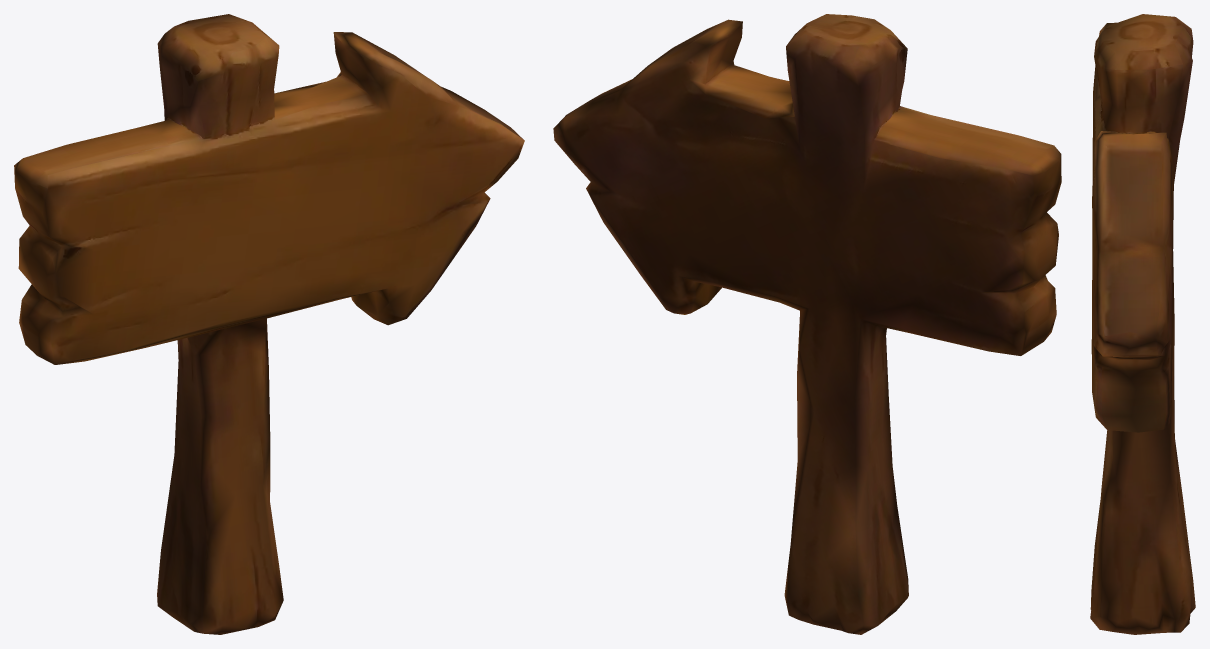
The model's file is signpost.glb.
3 views of the same model, side by side, from view 1: azimuth 30°, elevation 25°; view 2: azimuth 150°, elevation 25°; view 3: azimuth 270°, elevation 25° (orthographic).
Visible parts, largest first — view 1: geometry_0; view 2: geometry_0; view 3: geometry_0.
Boxes of the visible parts, x1,y1,x2,y2 form: geometry_0: (14,14,524,634); geometry_0: (553,14,1061,634); geometry_0: (1090,14,1195,634).
Bounding box in the file's own units: 1.58 × 1.8 × 0.2939.
1 material, 1 textured.
